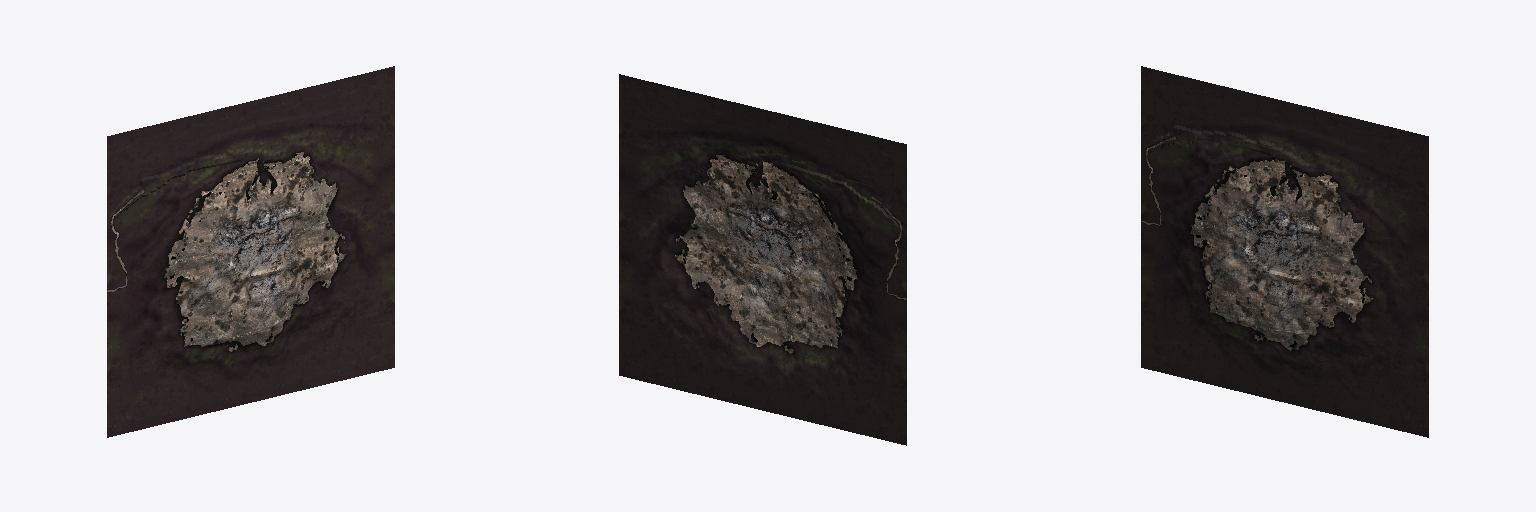
The picture shows the model from 3 angles: view 1: azimuth 30°, elevation 25°; view 2: azimuth 150°, elevation 25°; view 3: azimuth 330°, elevation 25°; orthographic projection.
Parts seen in each view (by area): view 1: Object__0; view 2: Object__0; view 3: Object__0.
Part boxes in pixels (bbox=[...]): Object__0: bbox=[107, 66, 394, 437]; Object__0: bbox=[619, 74, 906, 445]; Object__0: bbox=[1141, 66, 1428, 437].
Size of the model in its own units: 397 by 397 by 25.41.
Materials: 1 (1 with a texture image).